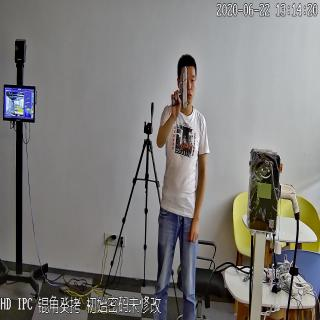gun: (170, 65, 188, 108)
